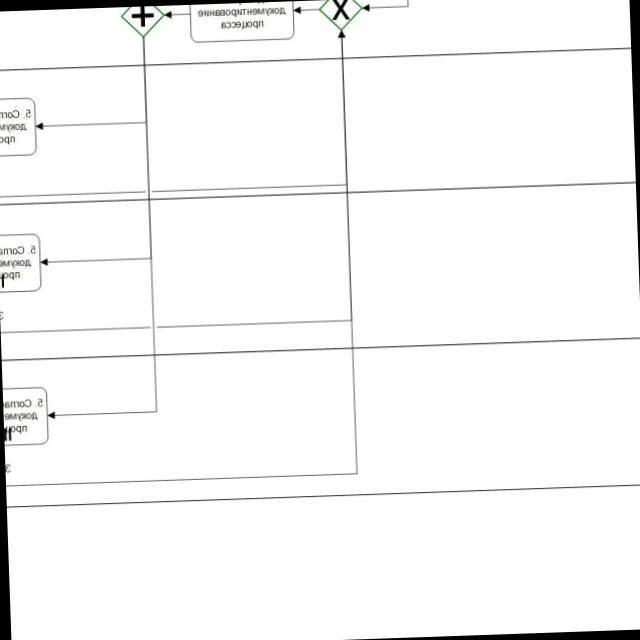arrow: (34, 36, 160, 421), (32, 36, 154, 268), (33, 37, 149, 133)
